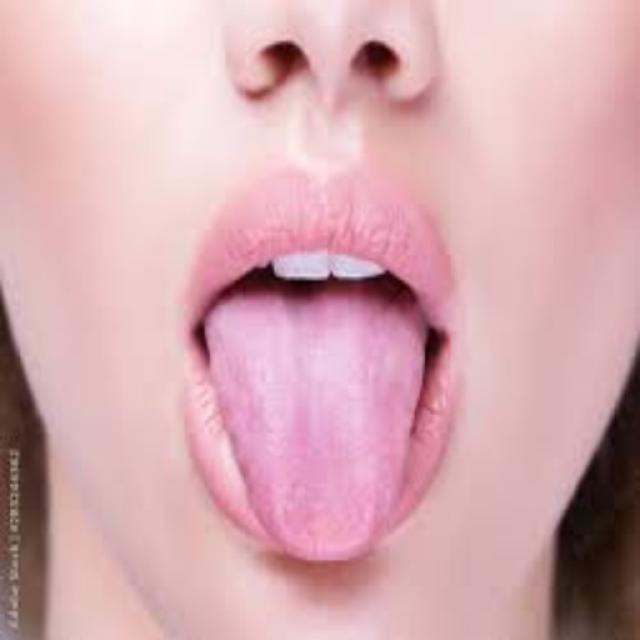processing_area: (205, 291, 429, 564)
